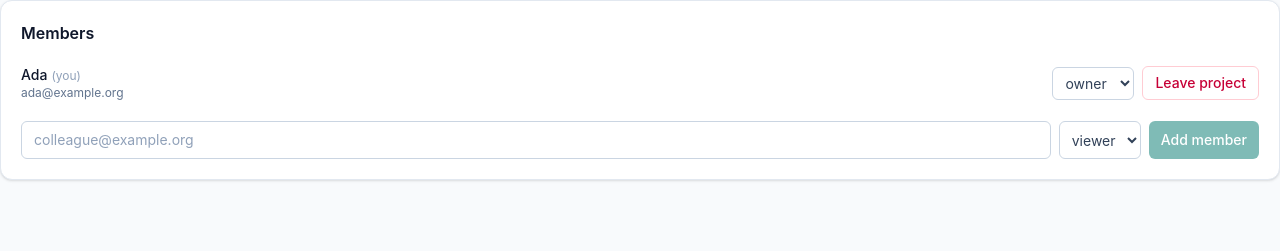
Test: MembersCard › lets an owner add a member by email with a role
Type "bob@example.org" into the field named "Member email". click: (536,140)
box: [21,121,1051,159]
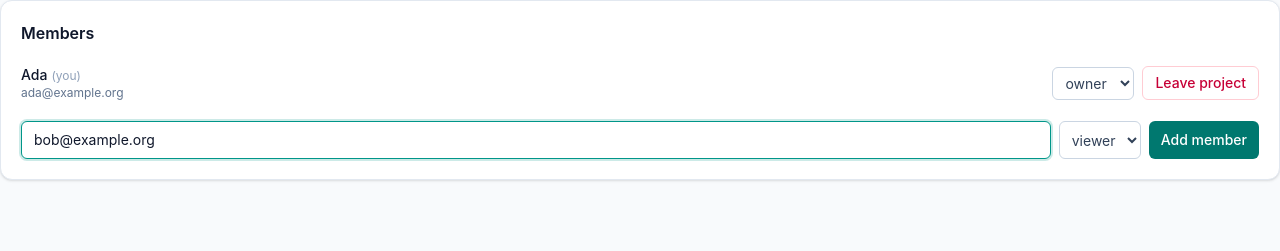
Select "editor" in the 2nd dropdown named "Role for new member". click: (1100,140)
box: [1059,121,1141,159]
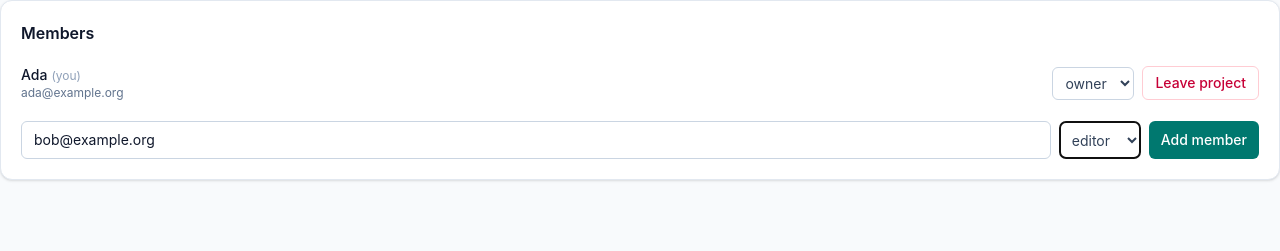
Click the button "Add member". click: (1204,140)
box: [1149,121,1259,159]
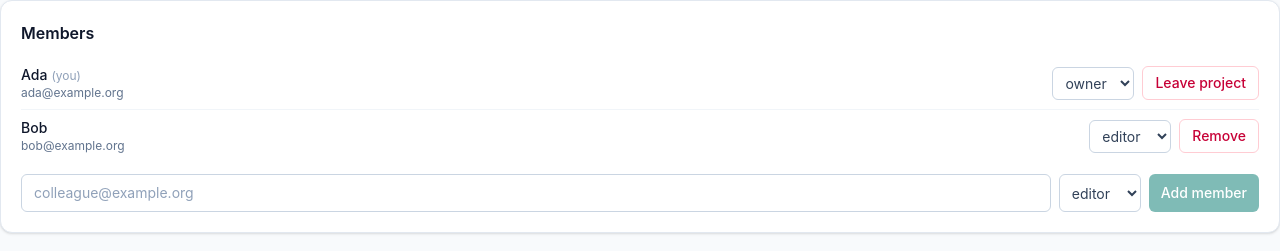
expect the text "bob@example.org" is shown: met, box [21,138,125,154]
expect the field named "Member email" is empty: met, box [21,174,1051,212]
